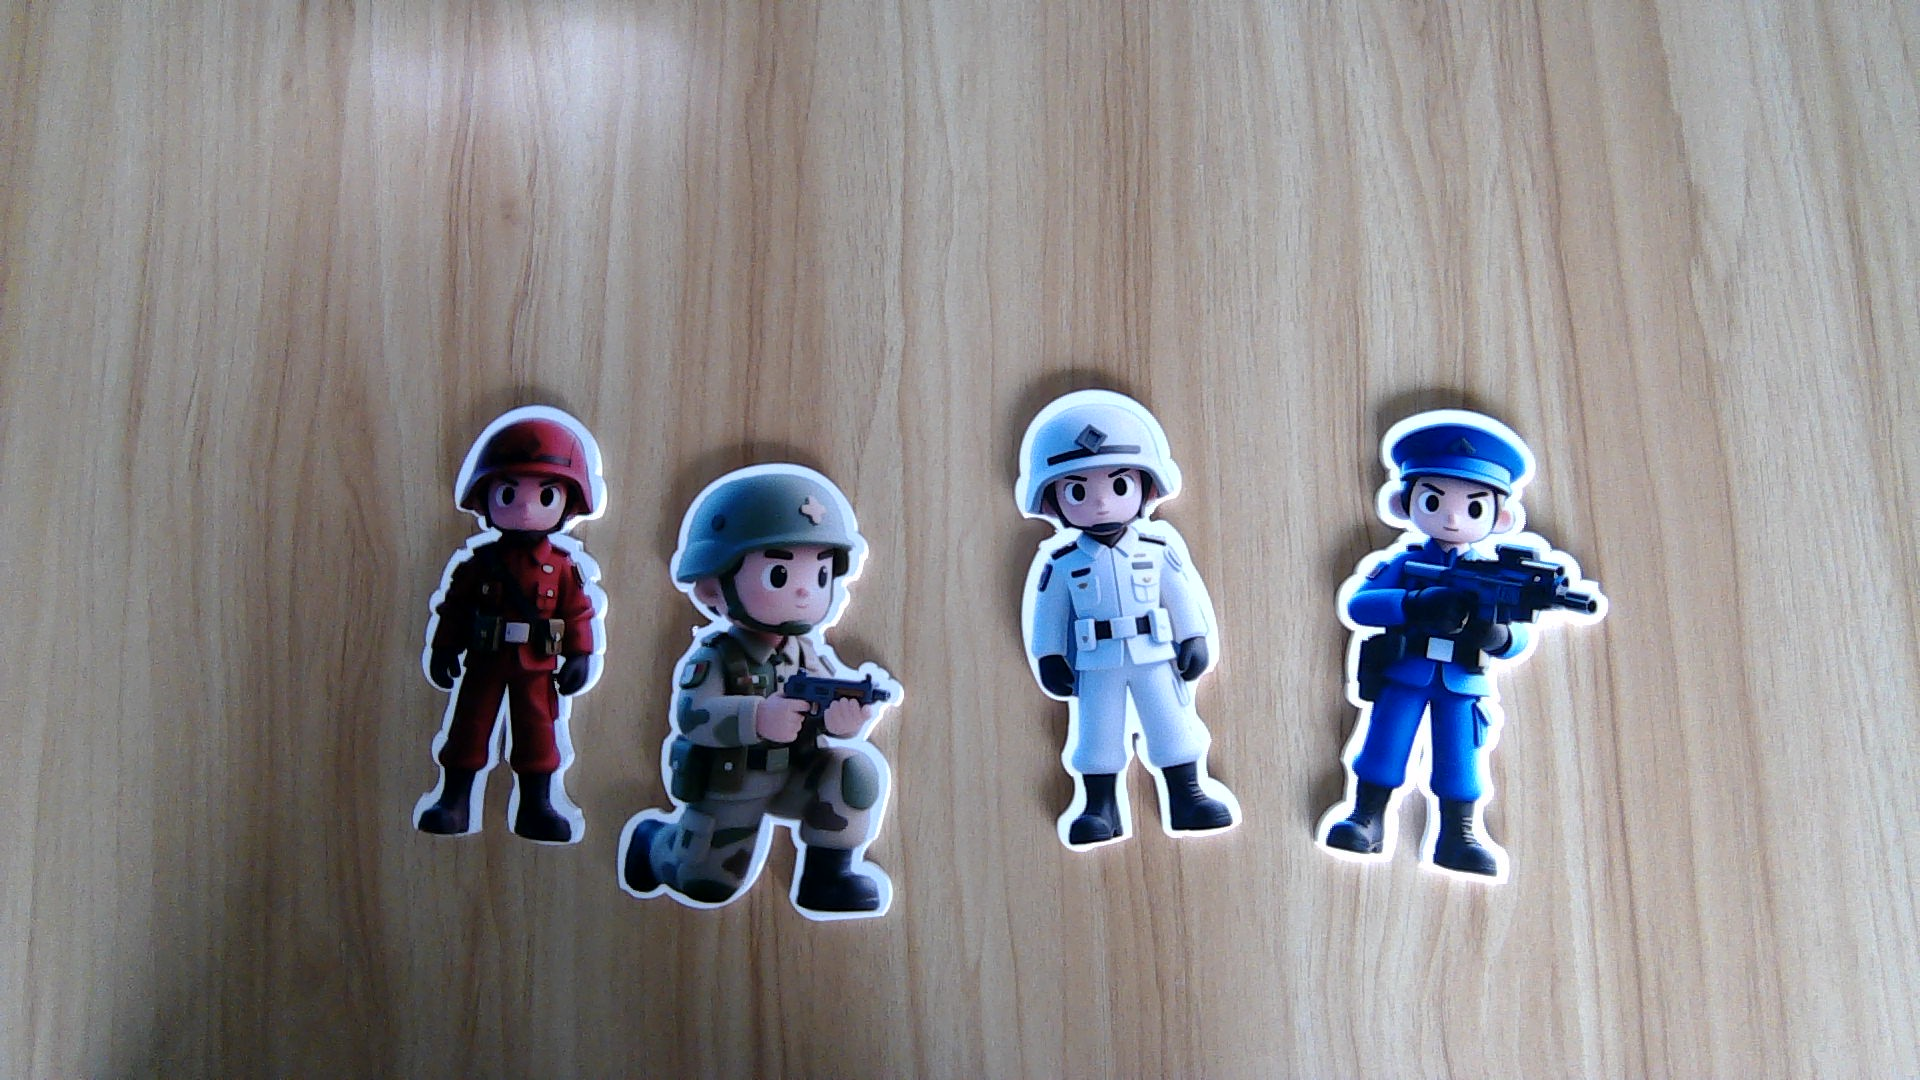人质: (1013, 527, 1244, 855)
友军: (615, 626, 909, 924)
敌人1: (410, 531, 608, 843)
敌人2: (1316, 527, 1607, 885)
